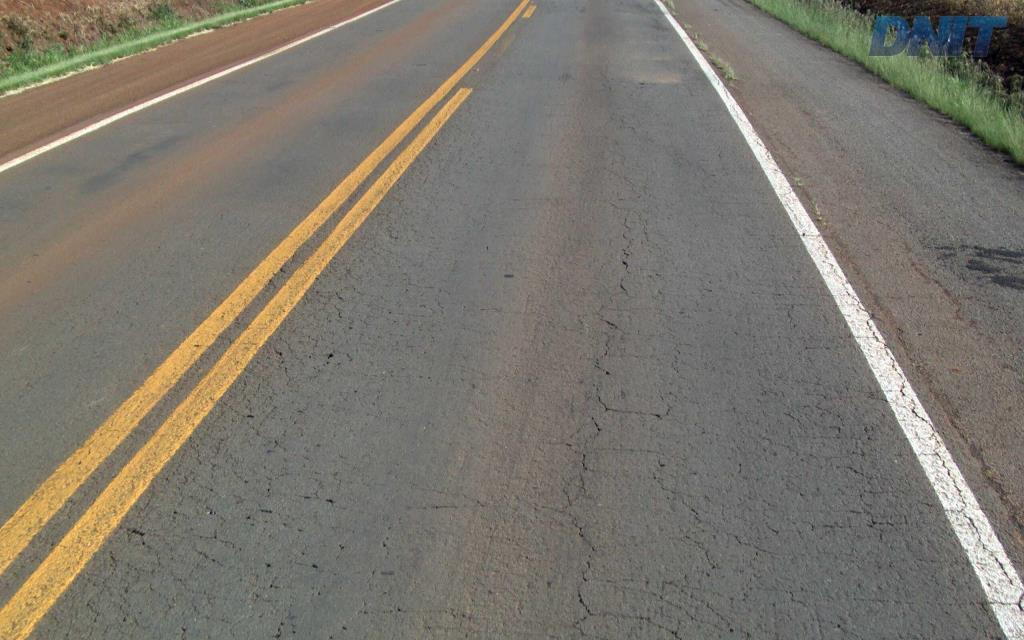crack: (861, 502, 901, 544)
